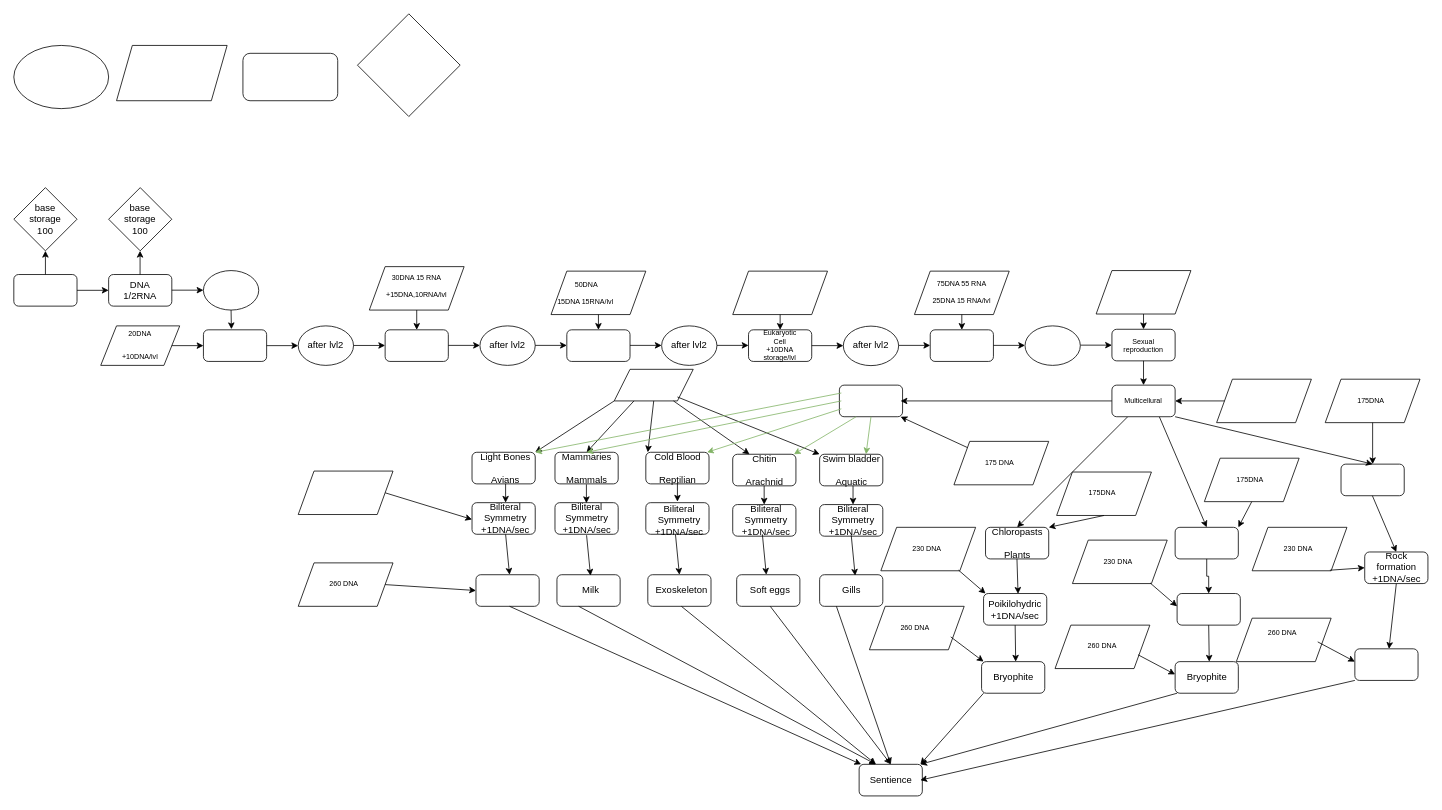
This 1442x810 diagram has some shape labels left out. Each missing label, with the centre of its shape:
150 DNA: pixel 1143 292
160 DNA: pixel 1263 400
200DNA: pixel 653 385
230DNA: pixel 345 492
50DNA 45 RNA 15DNA 15 RNA/lvl: pixel 780 292
a fejlesztés alap ára +szintenként mennyivel nől: pixel 171 73
a fejlesztés neve a fe: pixel 290 77
after 20 DNA: pixel 231 290
after lvl1: pixel 1052 345
alap maximum mennyisége egy nyersanyagnak: pixel 408 65
Crystallization: pixel 1386 664
Eggshell: pixel 507 590
Membrane +10RNA storage/lvl: pixel 235 345
Mitochondria +10DNA,RNA storage: pixel 961 345
Mycelium Fungi: pixel 1206 543
Nucleus (automatic) +1DNA/2RNA: pixel 598 345
Organelles +2RNA/sec: pixel 416 345
Phagocytosis Animals: pixel 871 400
RNA 1/click: pixel 45 290
Sclerites Rock golem: pixel 1372 479
Spores +1DNA/sec: pixel 1208 609
szükséges a tovább lépéshez: pixel 61 77
